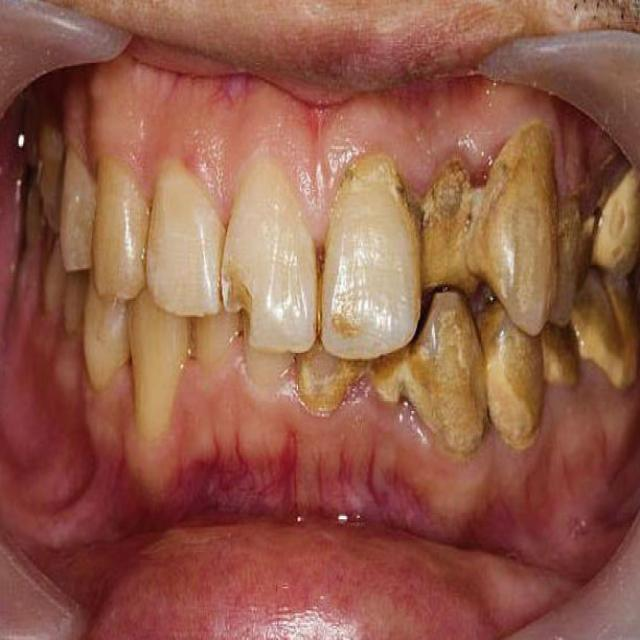caries: (220, 262, 258, 338)
